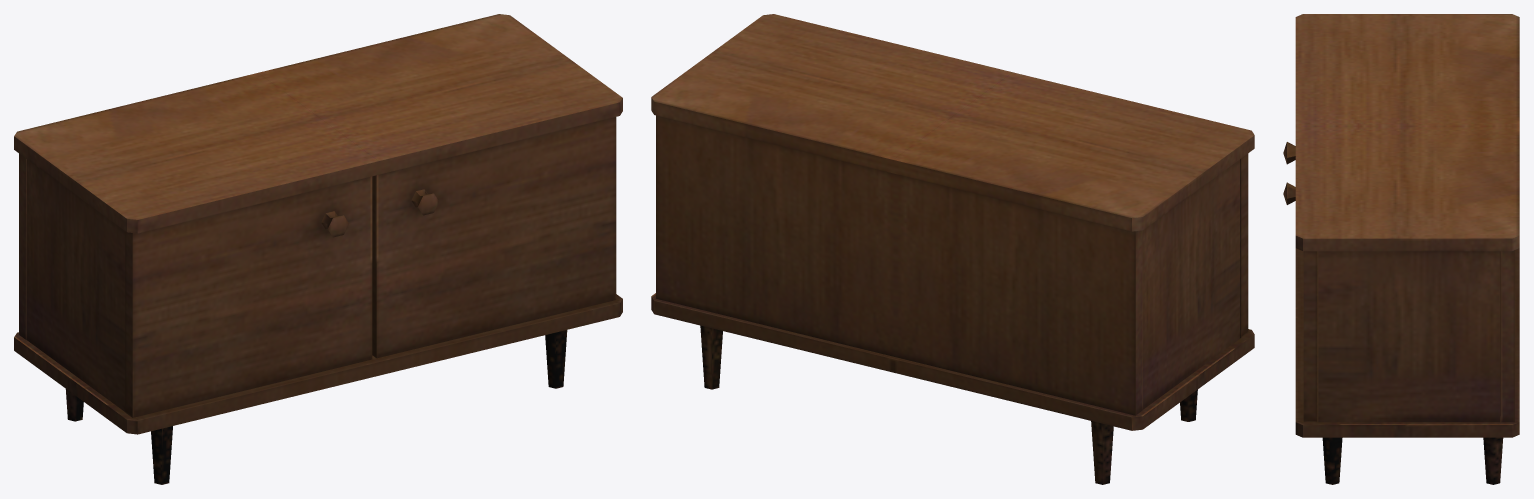
Rendered from toomba_mesh_01.fbx.
3 views of the same model, side by side, from view 1: azimuth 30°, elevation 25°; view 2: azimuth 150°, elevation 25°; view 3: azimuth 270°, elevation 25° (orthographic). The views are drawn at different scales.
Parts seen in each view (by area): view 1: toomba_main, toomba_door_left, toomba_door_right; view 2: toomba_main, toomba_door_left; view 3: toomba_main, toomba_door_right.
Part boxes in pixels (x1=…): toomba_main: x1=14, y1=14, x2=622, y2=484; toomba_door_left: x1=125, y1=176, x2=372, y2=417; toomba_door_right: x1=372, y1=117, x2=616, y2=358; toomba_main: x1=651, y1=14, x2=1254, y2=484; toomba_door_left: x1=1240, y1=153, x2=1248, y2=338; toomba_main: x1=1295, y1=14, x2=1519, y2=484; toomba_door_right: x1=1283, y1=182, x2=1317, y2=422.
Bounding box in the file's own units: 121 × 66.95 × 53.92.
Materials: 1 (1 with a texture image).
